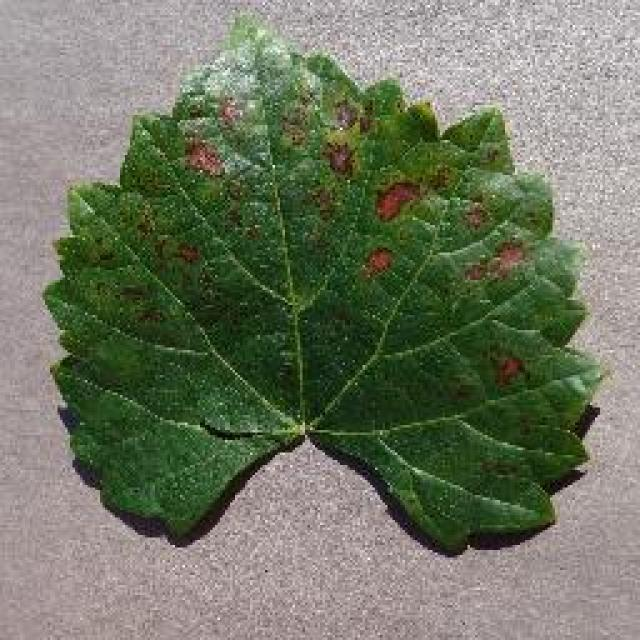Black_Measles: (25, 13, 630, 570)
